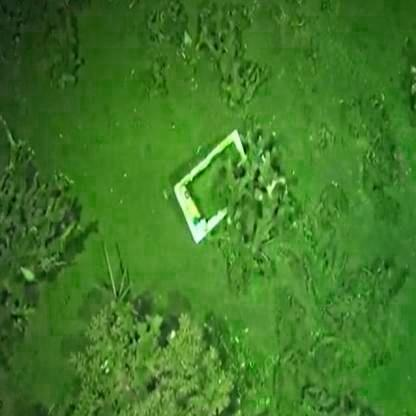misc: (170, 128, 256, 244)
